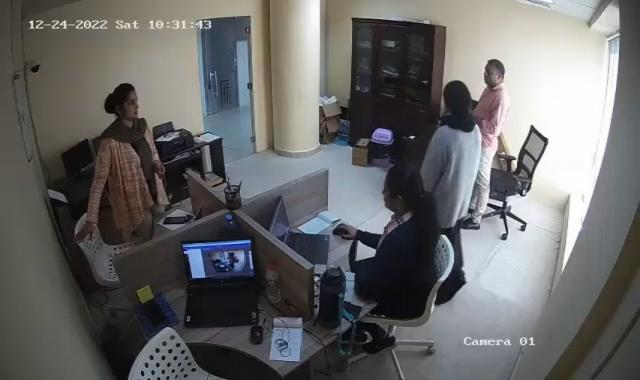no_hairnet: (380, 164, 426, 216), (102, 79, 139, 122), (442, 76, 474, 117), (478, 56, 509, 87)
